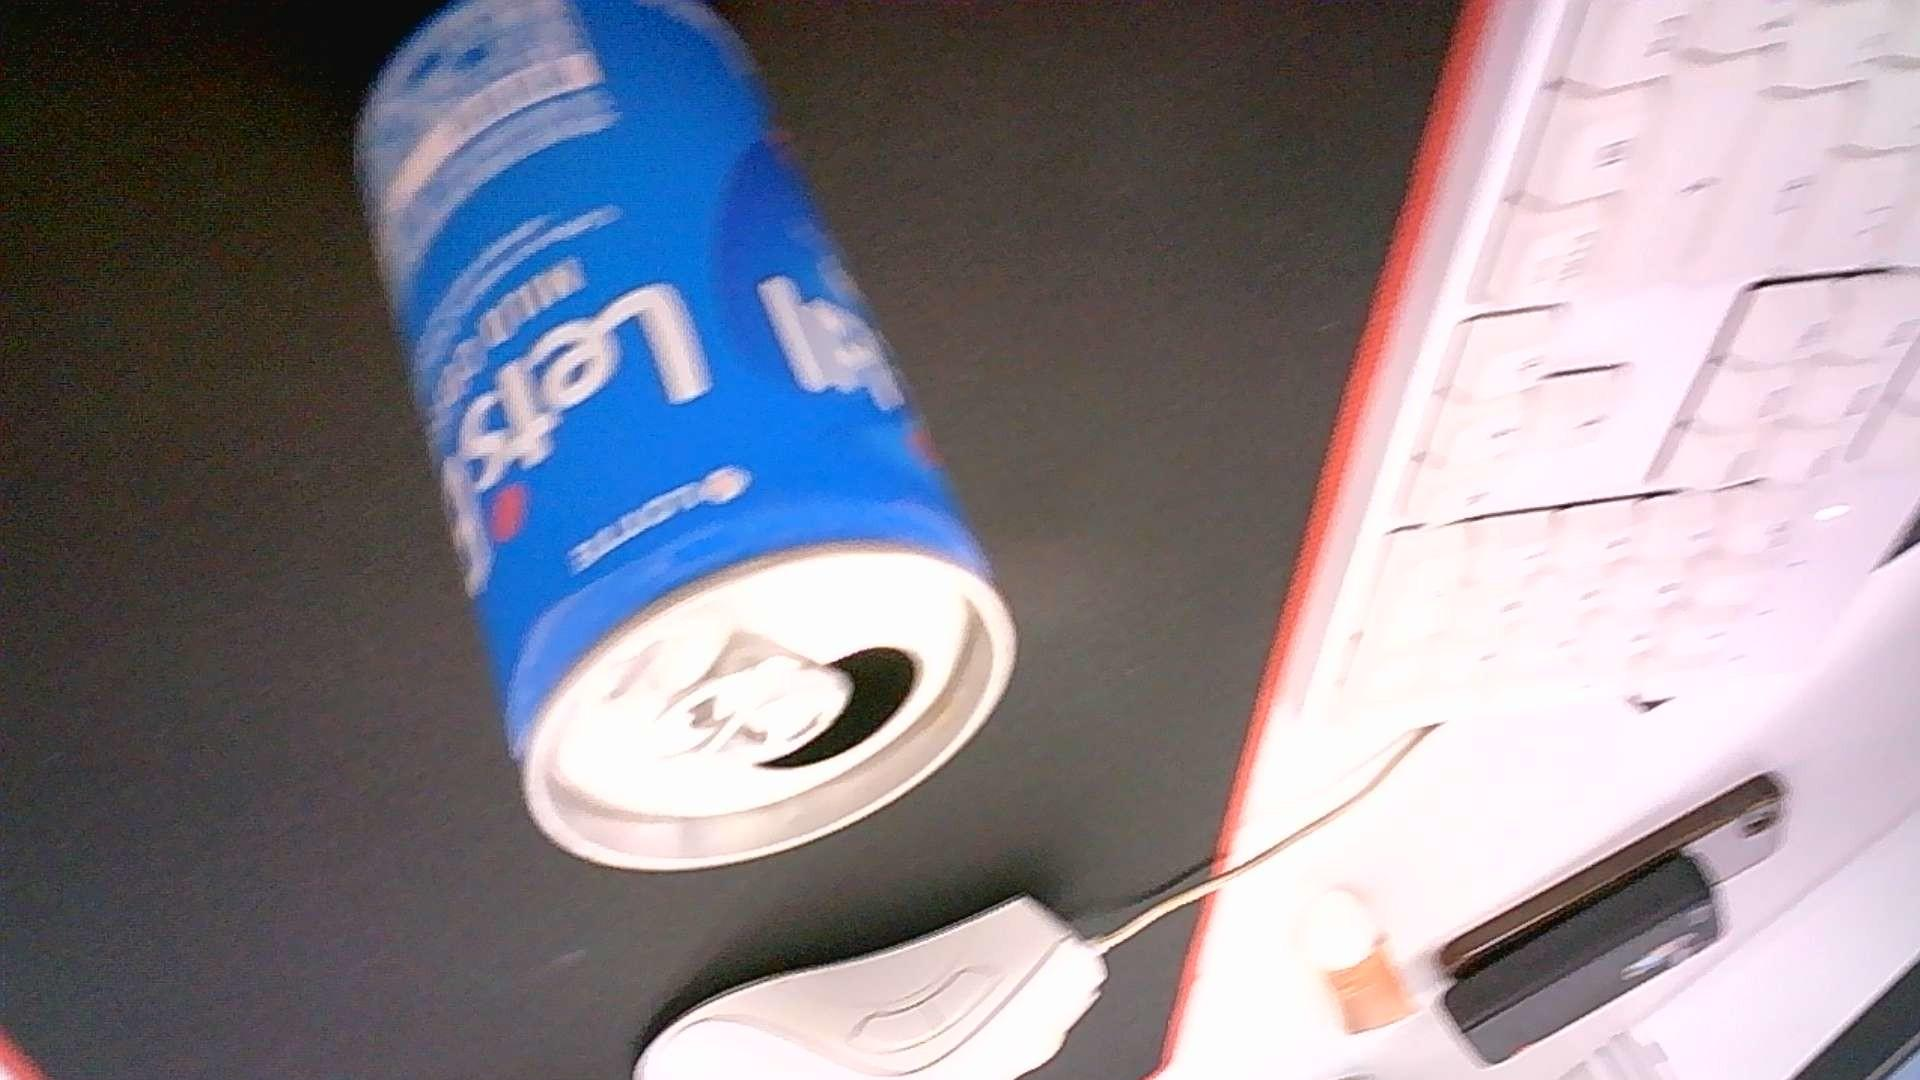letsbe: (349, 0, 1021, 873)
